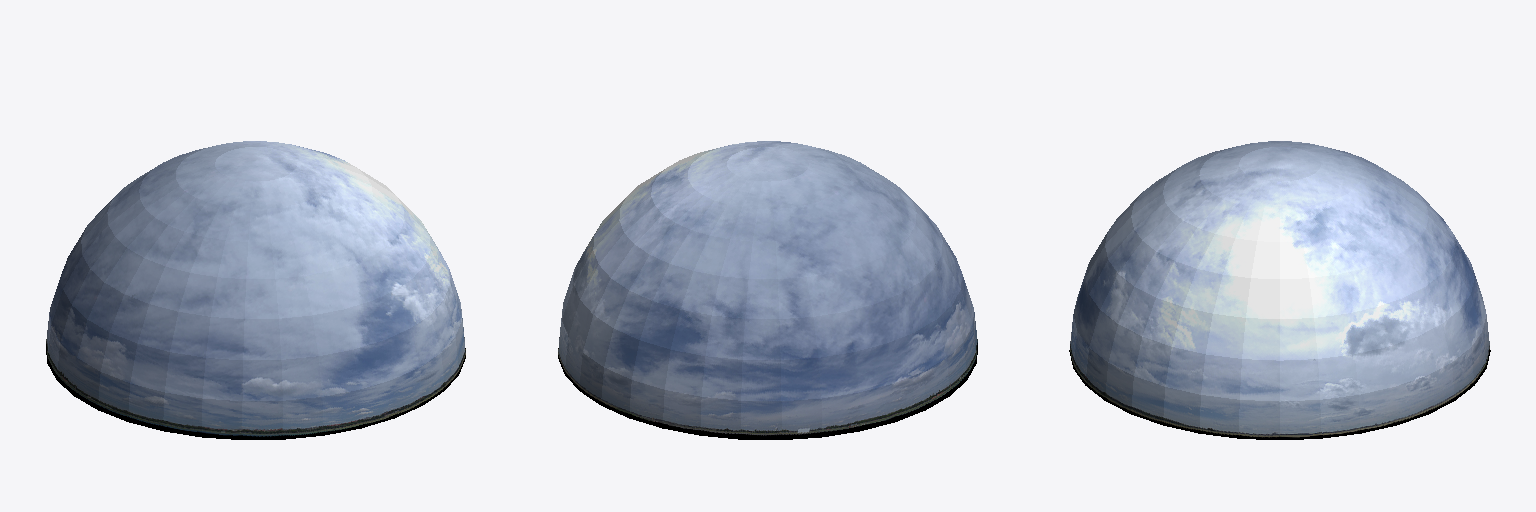
The picture shows the model from 3 angles: view 1: azimuth 30°, elevation 25°; view 2: azimuth 150°, elevation 25°; view 3: azimuth 270°, elevation 25°; orthographic projection.
Visible parts, largest first — view 1: skydome; view 2: skydome; view 3: skydome.
Part boxes in pixels (left/top/right/bottom): skydome: left=46, top=141, right=465, bottom=439; skydome: left=558, top=141, right=977, bottom=439; skydome: left=1069, top=141, right=1490, bottom=439.
Bounding box in the file's own units: 2 × 1 × 2.
Materials: 1 (1 with a texture image).